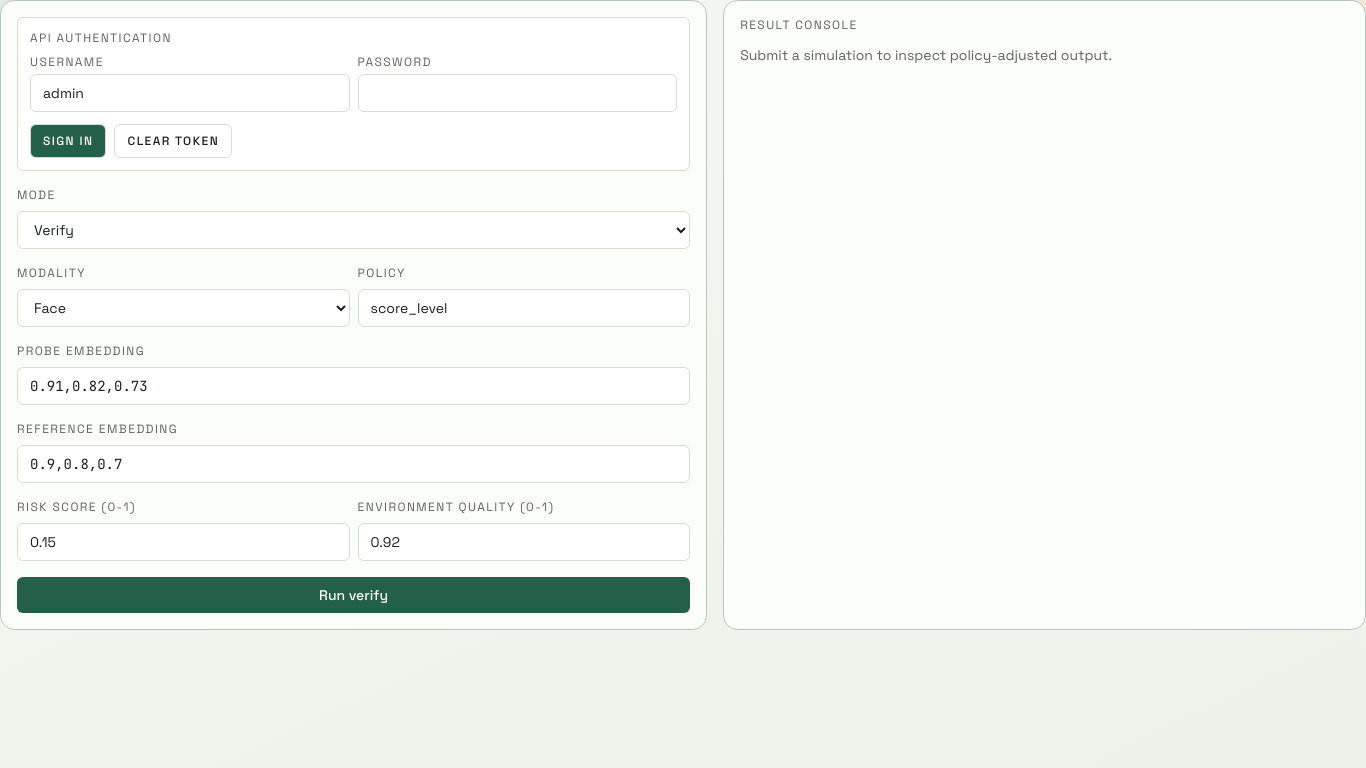
Scenario: AuthenticationSimulator › submits verify mode and renders response
Click the button "Run verify": (354, 595) [17,577,690,613]
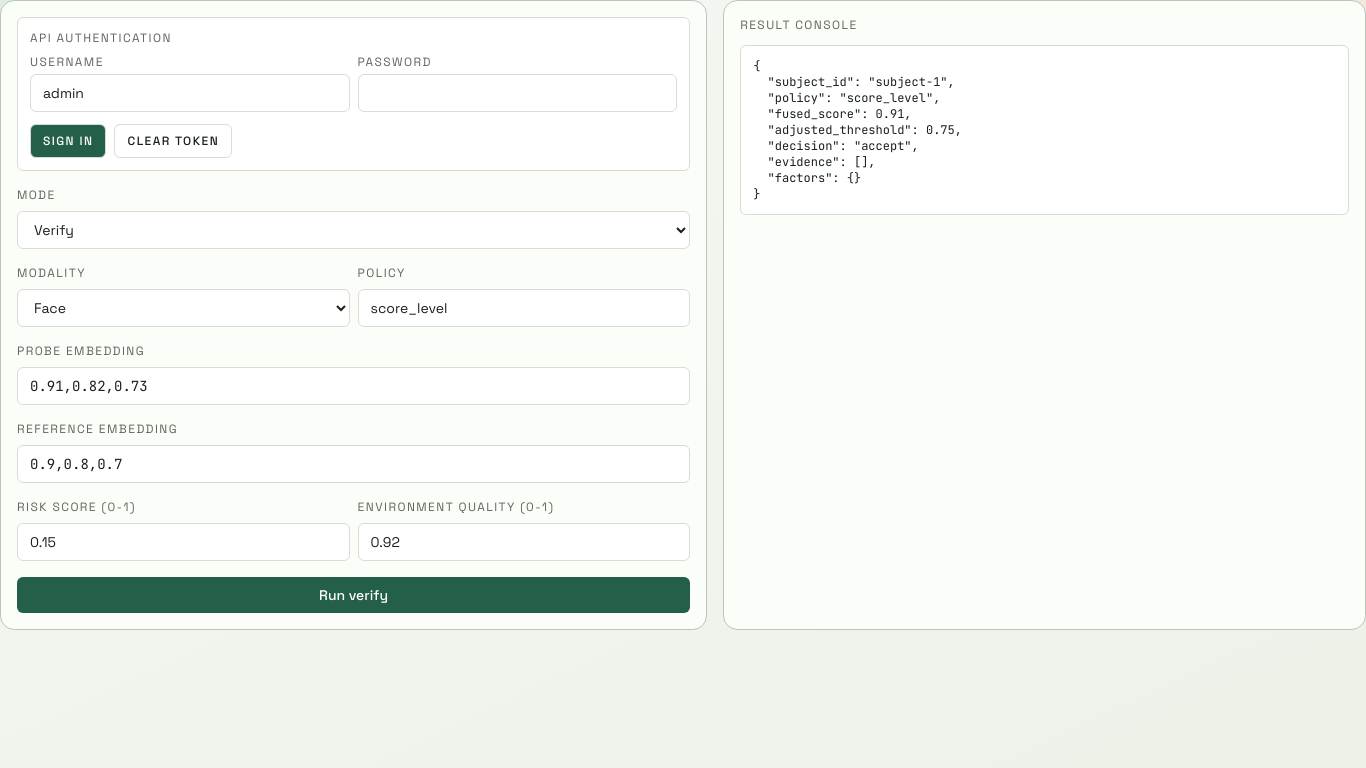
Expected: the text "\"decision\": \"accept\"" is shown, [753,58,962,202]
